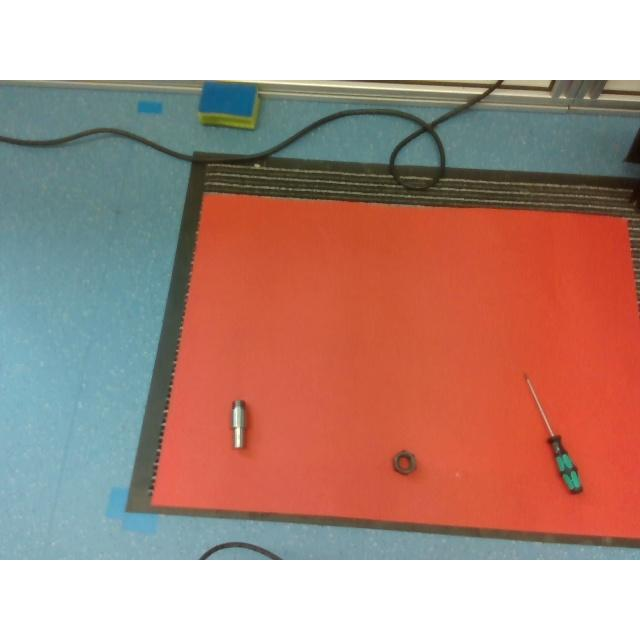Axis2: (230, 399, 246, 449)
M20: (392, 450, 416, 474)
Screwdriver: (524, 371, 584, 495)
